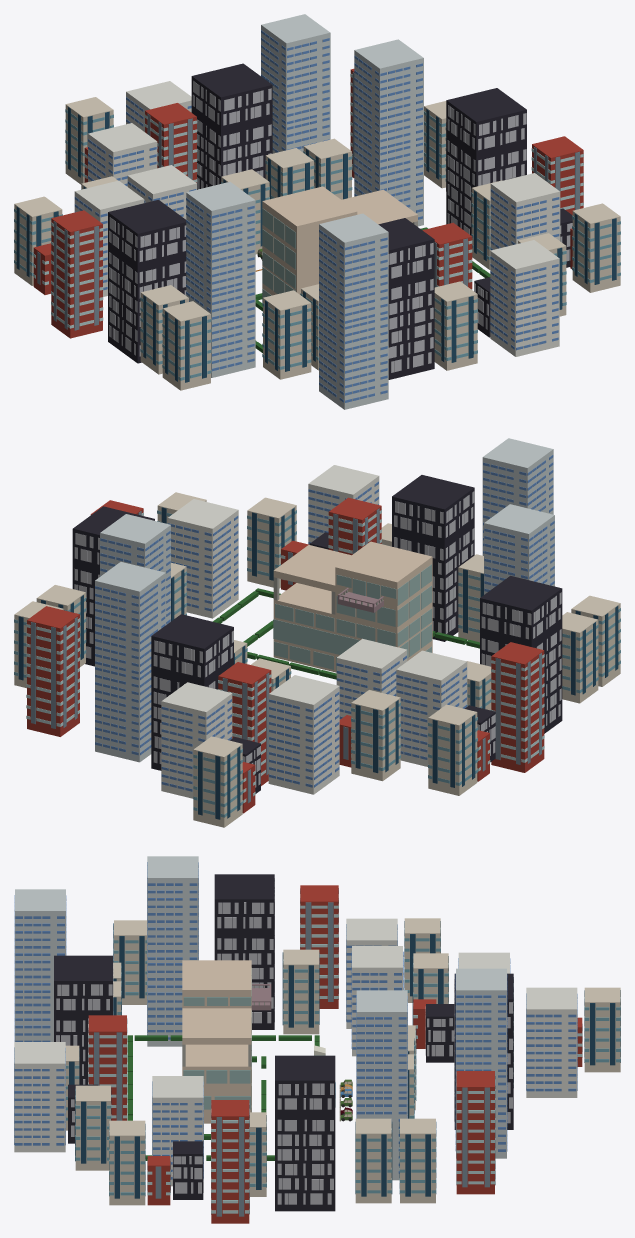
File: level2 buliding.fbx
The picture shows the model from 3 angles, top to bottom: view 1: azimuth 30°, elevation 25°; view 2: azimuth 150°, elevation 25°; view 3: azimuth 270°, elevation 25°; orthographic projection. The views are drawn at different scales.
Visible parts, largest first — view 1: building; view 2: building; view 3: building.
Part boxes in pixels (x1,y1,x2,y2): building: (14, 14, 620, 409); building: (14, 438, 620, 827); building: (14, 856, 620, 1223).
Size of the model in its own units: 40803 by 13870 by 45285.
